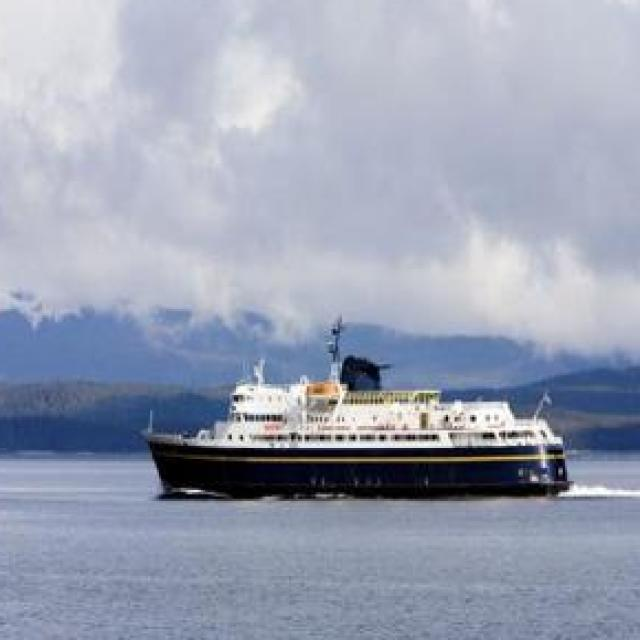passenger ship: (137, 358, 576, 499)
